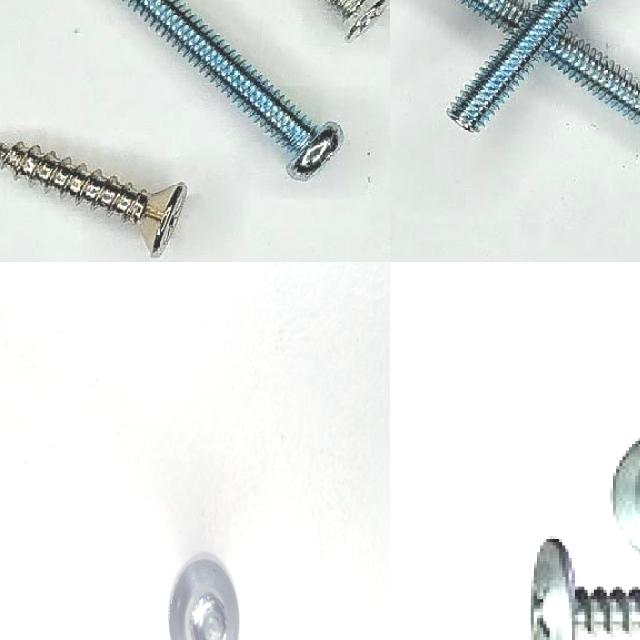Screw: (124, 0, 343, 180), (0, 142, 187, 257), (448, 0, 590, 132), (531, 539, 640, 640), (545, 32, 640, 127), (169, 559, 239, 640), (326, 0, 390, 41)
